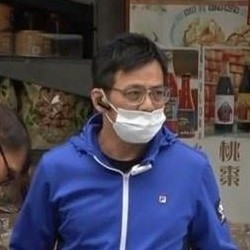mask: (86, 74, 170, 148)
